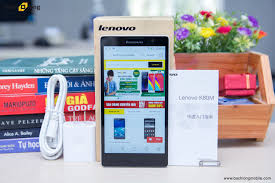lenovo: (98, 35, 168, 170)
